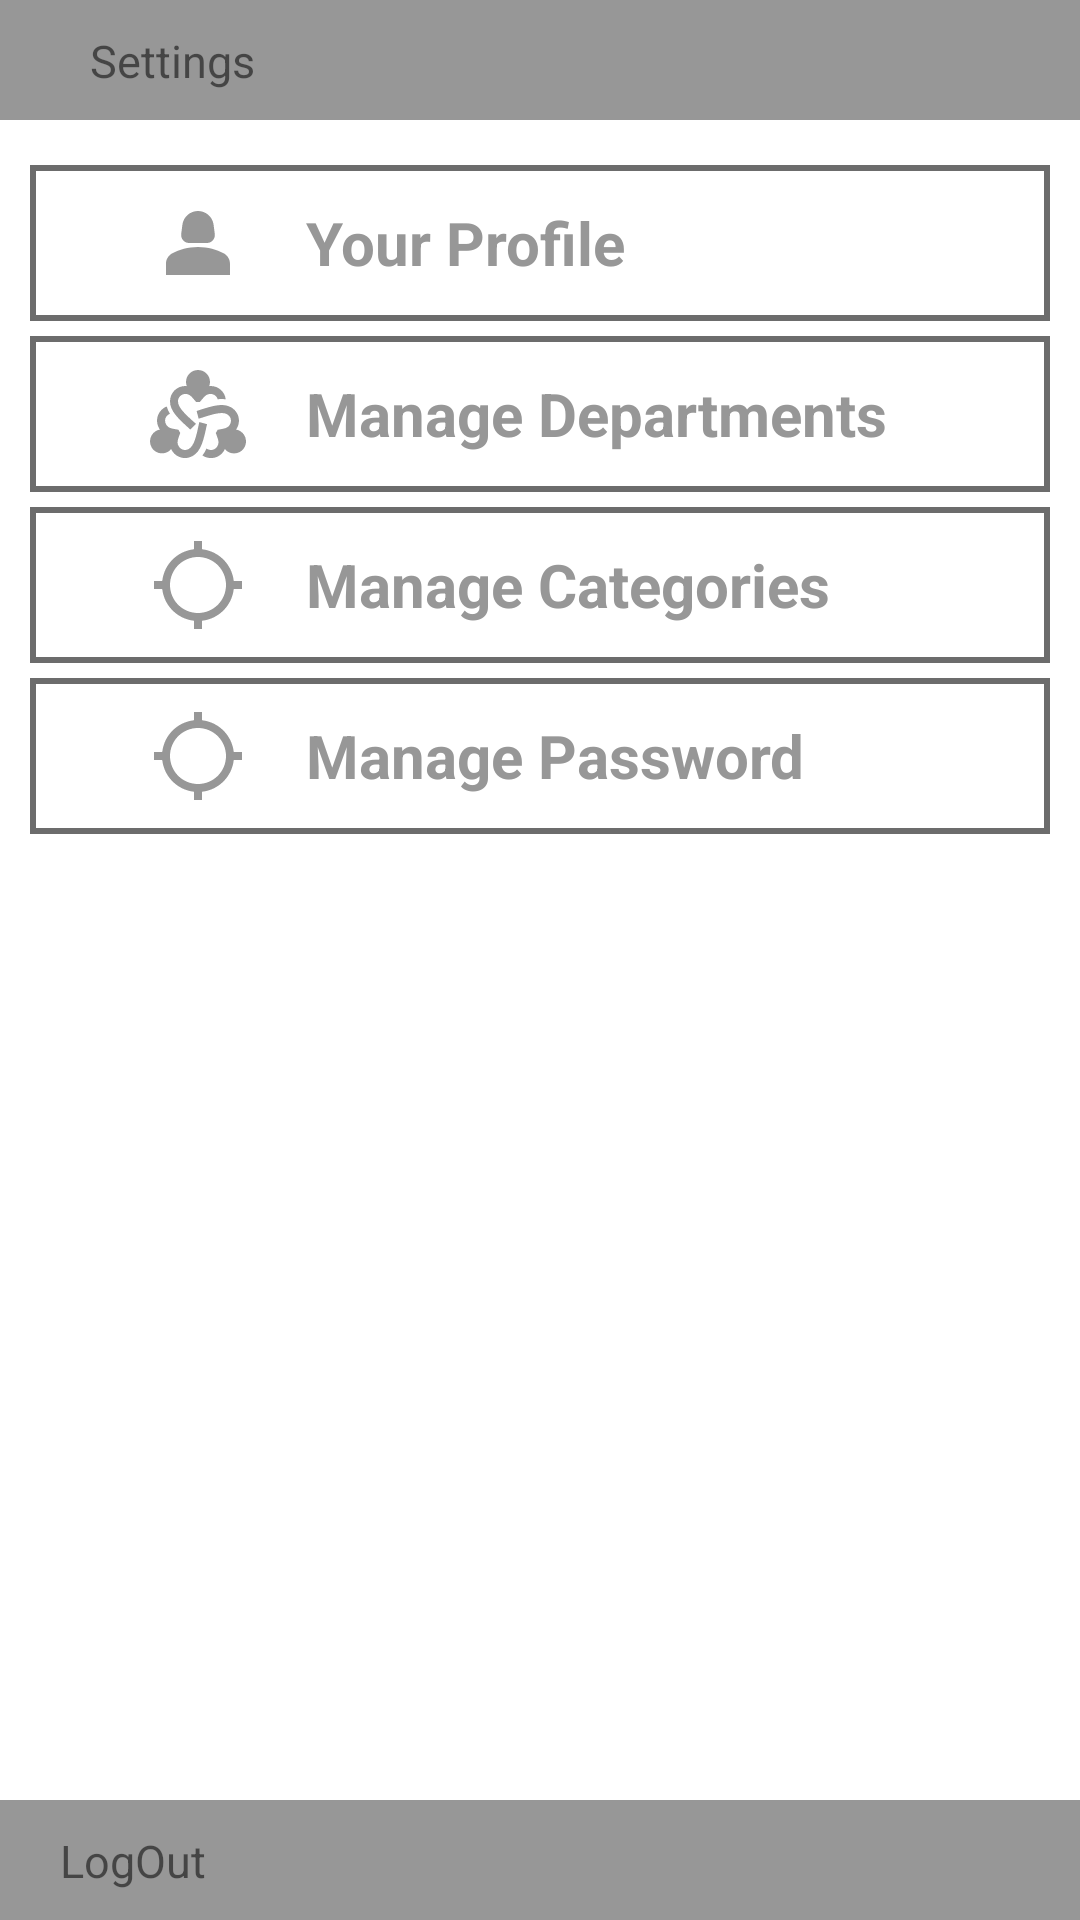

Icons on this 1080w x 1920h Android screen, each with its box as (x1, y1, x2, y2):
person: (166, 211, 230, 275)
